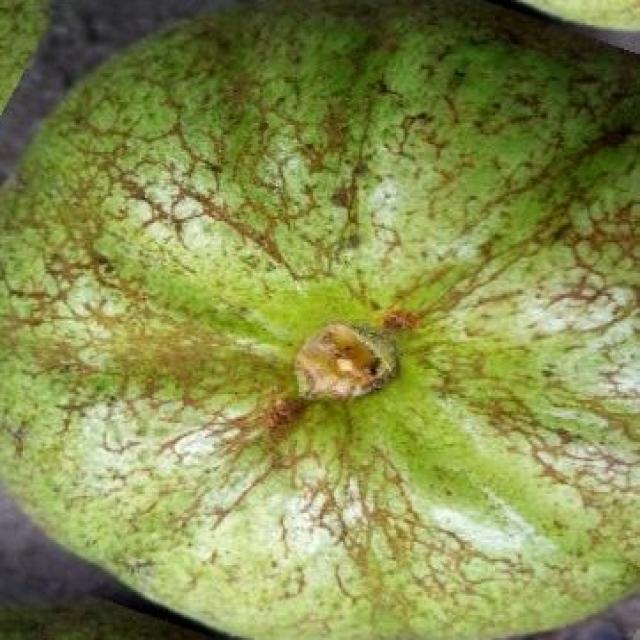Scab: (0, 3, 640, 636)
